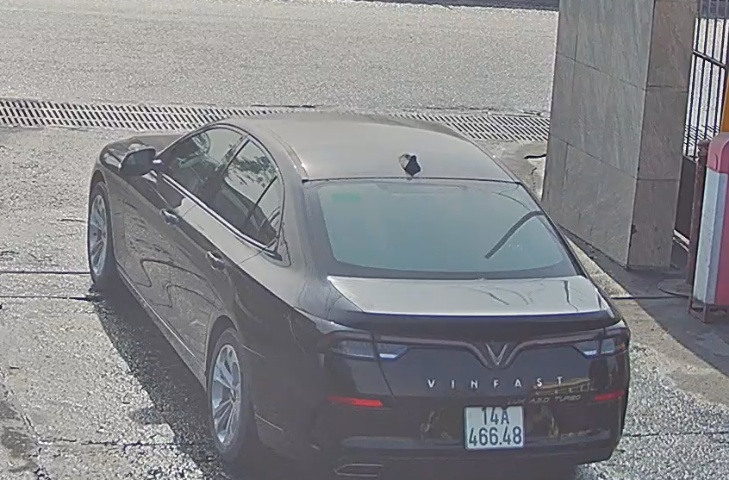vehicle plate: (462, 399, 532, 457)
